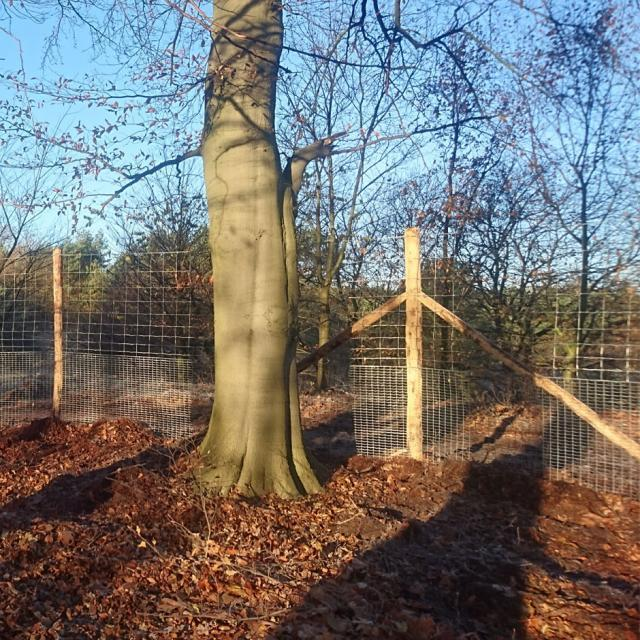fence line: (11, 255, 229, 432), (353, 236, 472, 463), (549, 257, 640, 509)
